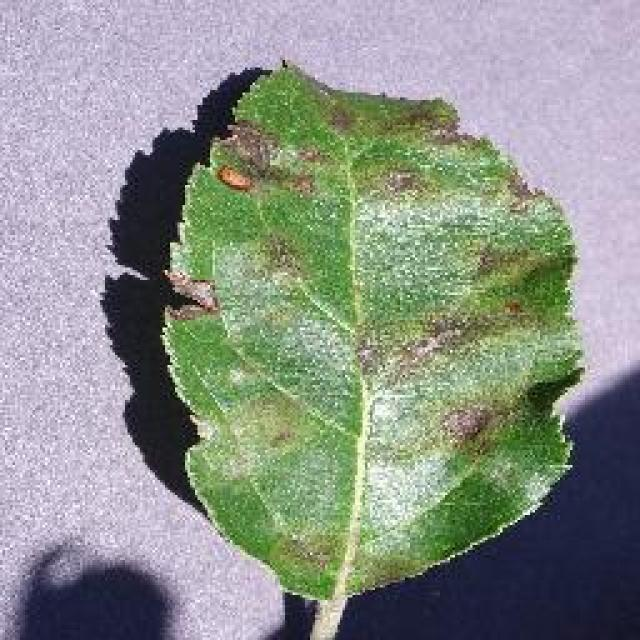apple scab disease: (155, 55, 587, 625)
